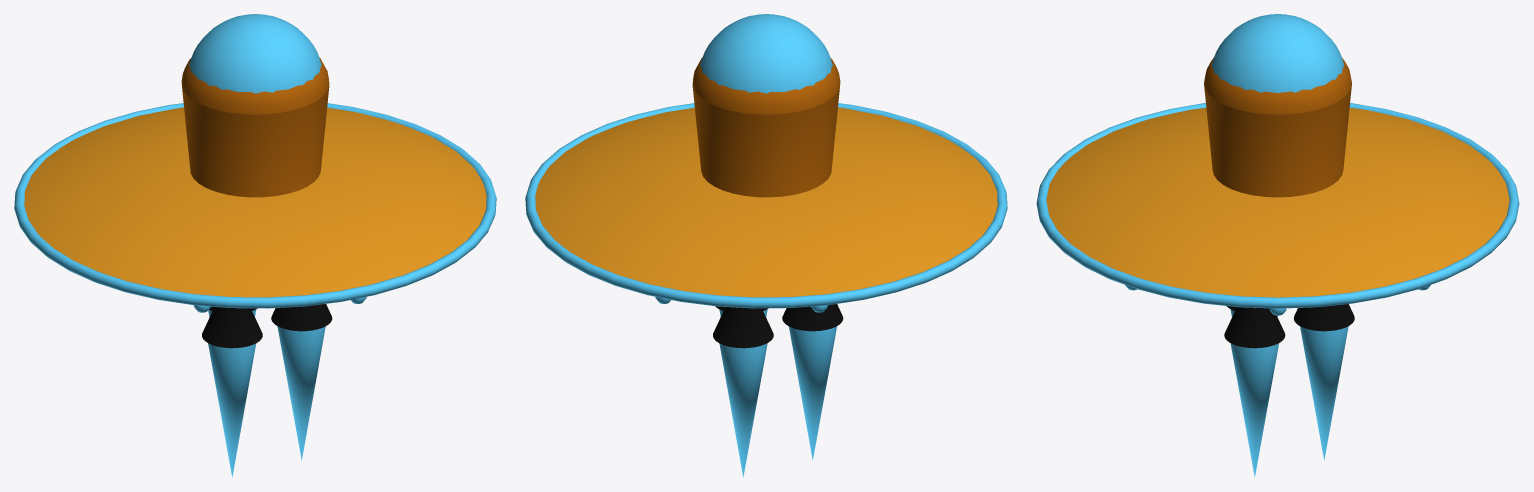
The model's file is Rocket_26_GoldSaucer.obj.
3 renders of one model, left to right at view 1: azimuth 30°, elevation 25°; view 2: azimuth 150°, elevation 25°; view 3: azimuth 270°, elevation 25°, orthographic.
Visible parts, largest first — view 1: R26_Saucer, R26_Body, R26_SaucerGlow, R26_Dome, R26_Nose, R26_Flame_3, R26_Flame_2, R26_Nozzle_2, R26_Nozzle_3; view 2: R26_Saucer, R26_Body, R26_SaucerGlow, R26_Dome, R26_Nose, R26_Flame_1, R26_Flame_2, R26_Nozzle_1, R26_Nozzle_2; view 3: R26_Saucer, R26_Body, R26_SaucerGlow, R26_Dome, R26_Nose, R26_Flame_3, R26_Flame_1, R26_Nozzle_3, R26_Nozzle_1.
Part boxes in pixels (left/top/right/bottom): R26_Saucer: left=24, top=107, right=486, bottom=297; R26_Body: left=182, top=86, right=329, bottom=197; R26_SaucerGlow: left=14, top=103, right=496, bottom=308; R26_Dome: left=189, top=14, right=321, bottom=93; R26_Nose: left=181, top=57, right=329, bottom=114; R26_Flame_3: left=277, top=326, right=325, bottom=460; R26_Flame_2: left=208, top=343, right=256, bottom=476; R26_Nozzle_2: left=202, top=307, right=262, bottom=348; R26_Nozzle_3: left=271, top=304, right=332, bottom=331; R26_Saucer: left=535, top=107, right=997, bottom=297; R26_Body: left=692, top=86, right=839, bottom=197; R26_SaucerGlow: left=525, top=103, right=1007, bottom=308; R26_Dome: left=700, top=14, right=832, bottom=93; R26_Nose: left=692, top=57, right=840, bottom=114; R26_Flame_1: left=719, top=343, right=767, bottom=476; R26_Flame_2: left=789, top=326, right=836, bottom=460; R26_Nozzle_1: left=713, top=307, right=773, bottom=348; R26_Nozzle_2: left=782, top=304, right=843, bottom=331; R26_Saucer: left=1046, top=107, right=1509, bottom=297; R26_Body: left=1204, top=84, right=1351, bottom=197; R26_SaucerGlow: left=1036, top=103, right=1519, bottom=308; R26_Dome: left=1212, top=14, right=1343, bottom=92; R26_Nose: left=1204, top=58, right=1351, bottom=114; R26_Flame_3: left=1230, top=343, right=1278, bottom=477; R26_Flame_1: left=1300, top=326, right=1348, bottom=459; R26_Nozzle_3: left=1224, top=307, right=1285, bottom=348; R26_Nozzle_1: left=1293, top=304, right=1354, bottom=331.
Bounding box in the file's own units: 5.22 × 5.25 × 5.22.
